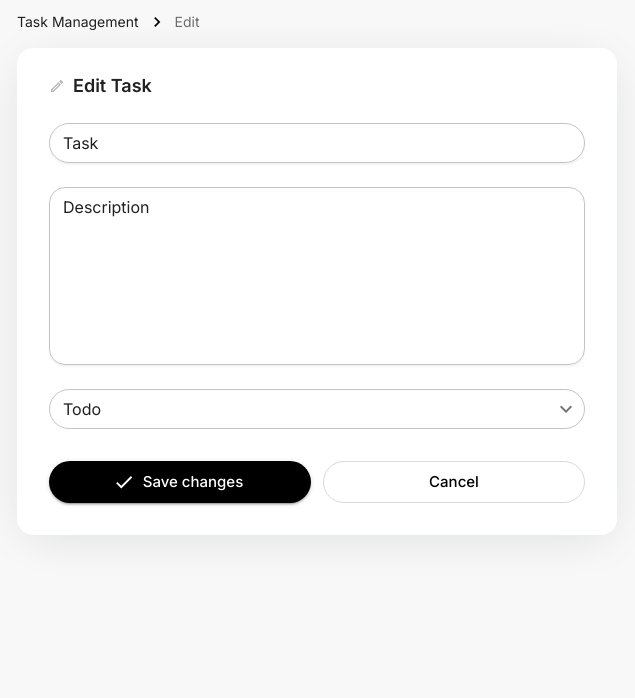
Test: edit a task › applies changes on save
Replace the text in the field named "Title" with "Edited task" at (317, 143), box top-left (49, 123), bottom-right (585, 163)
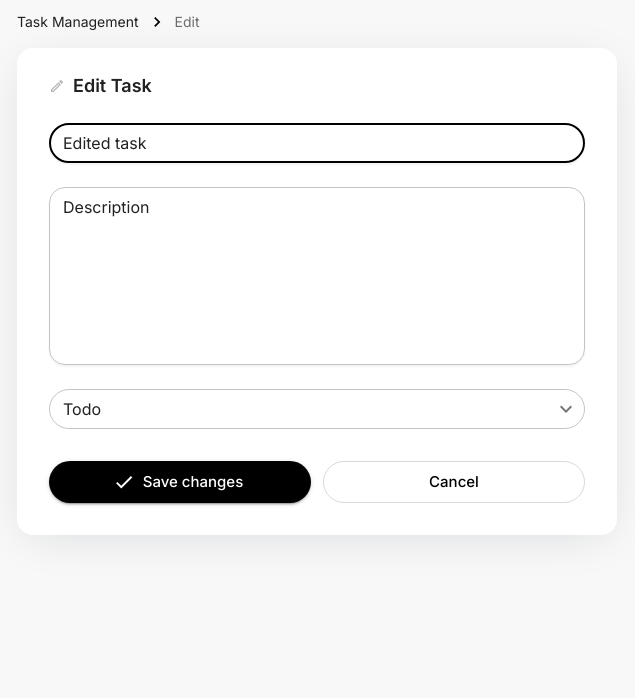
Click the text "Save changes".
click(194, 482)  # box top-left (143, 469), bottom-right (244, 495)
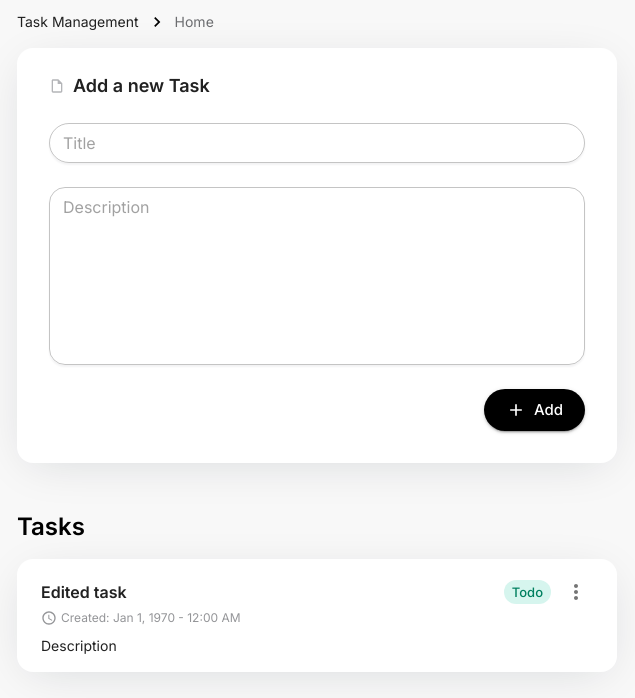
Now the text "Edited task" is shown, box top-left (41, 582), bottom-right (127, 602)
